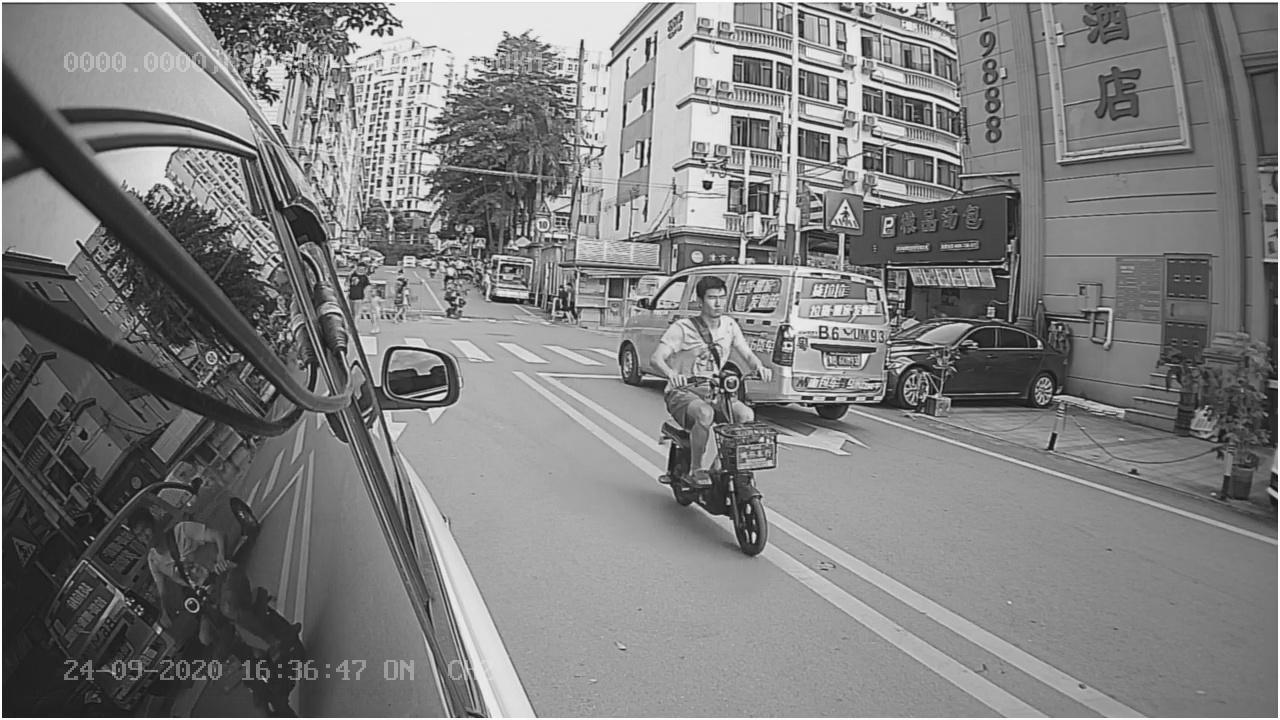person: (615, 266, 802, 579)
